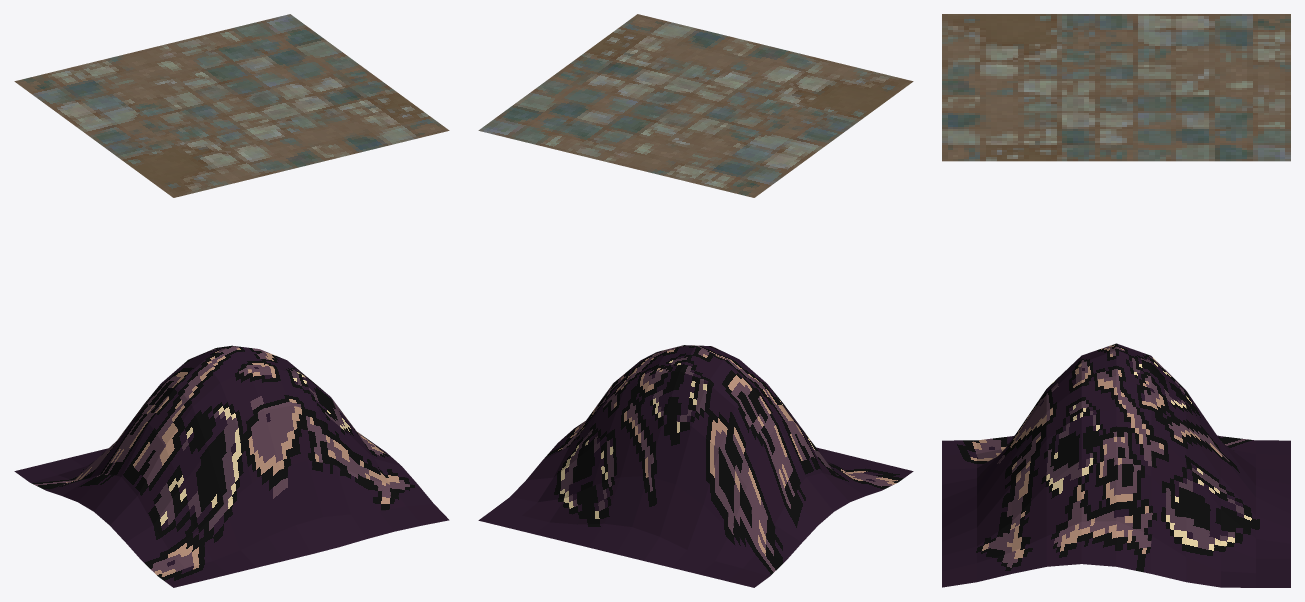
Rendered from bonepile1.glb.
The picture shows the model from 3 angles, left to right: view 1: azimuth 30°, elevation 25°; view 2: azimuth 150°, elevation 25°; view 3: azimuth 270°, elevation 25°; orthographic projection. The views are drawn at different scales.
Parts seen in each view (by area): view 1: floor, wall; view 2: floor, wall; view 3: floor, wall.
Boxes of the visible parts, <box> form: floor: <box>14,345,449,587</box>; wall: <box>14,14,449,197</box>; floor: <box>478,345,913,587</box>; wall: <box>478,14,913,197</box>; floor: <box>942,343,1290,587</box>; wall: <box>942,14,1290,161</box>.
Size of the model in its own units: 2 by 2.7 by 2.
Materials: 2 (2 with a texture image).
